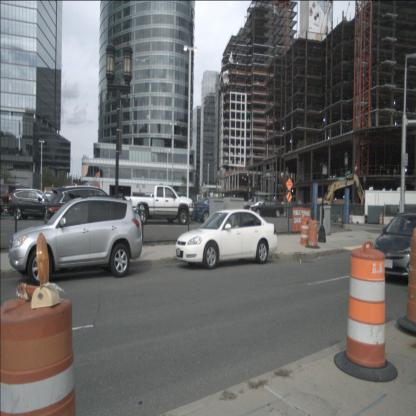movable_object-barrier: (346, 215, 365, 224), (384, 217, 400, 226)
movable_object-trafficcone: (0, 283, 80, 416), (334, 240, 398, 383), (396, 223, 416, 335), (305, 219, 321, 250), (300, 217, 311, 246), (378, 212, 384, 226), (350, 210, 354, 224), (363, 213, 366, 225)
vehicle-car: (8, 197, 143, 286), (175, 209, 278, 270), (43, 186, 128, 236), (373, 212, 416, 282), (7, 190, 57, 220), (193, 197, 240, 224), (250, 200, 284, 218)
vehicle-truck: (130, 185, 193, 225), (0, 184, 32, 218), (243, 196, 269, 212)
